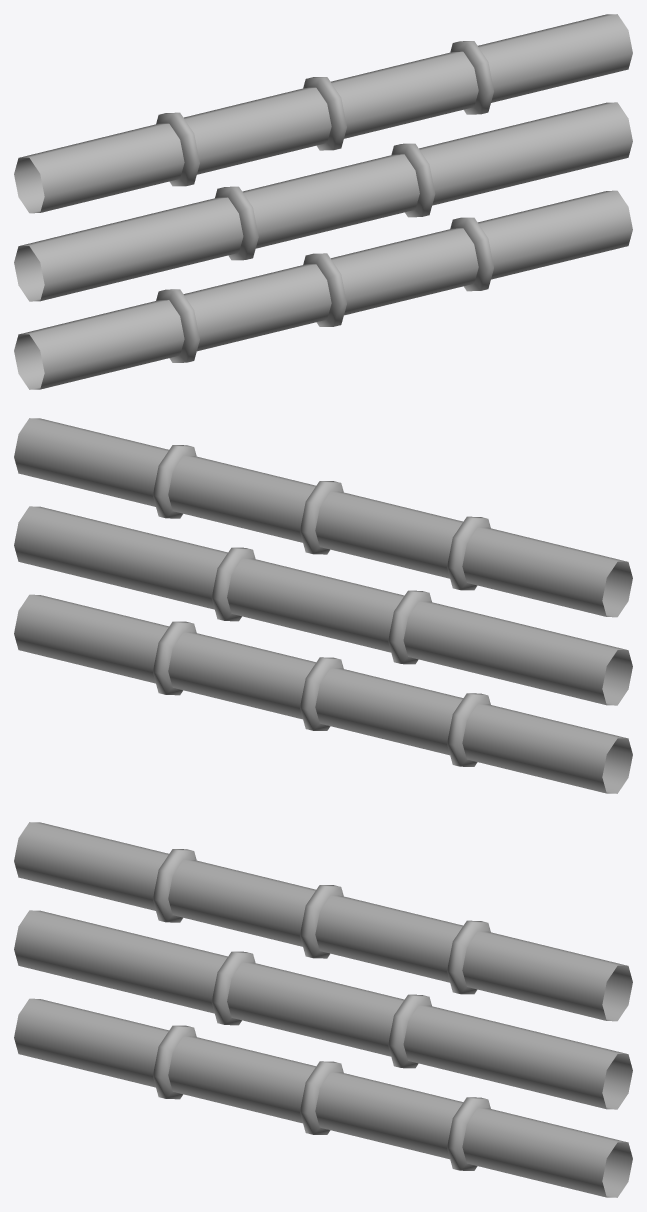
File: pipeX3_001.fbx
The picture shows the model from 3 angles, top to bottom: view 1: azimuth 30°, elevation 25°; view 2: azimuth 150°, elevation 25°; view 3: azimuth 330°, elevation 25°; orthographic projection.
Visible parts, largest first — view 1: pipeX3_001; view 2: pipeX3_001; view 3: pipeX3_001.
Part boxes in pixels (left/top/right/bottom): pipeX3_001: left=14, top=14, right=632, bottom=389; pipeX3_001: left=14, top=418, right=632, bottom=793; pipeX3_001: left=14, top=822, right=632, bottom=1197.
Bounding box in the file's own units: 1000 × 117 × 404.
